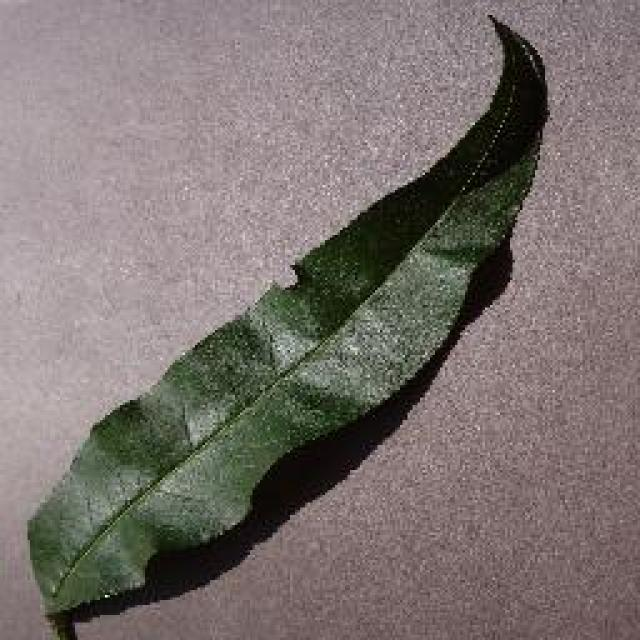Pea_healthy: (49, 99, 531, 556)
